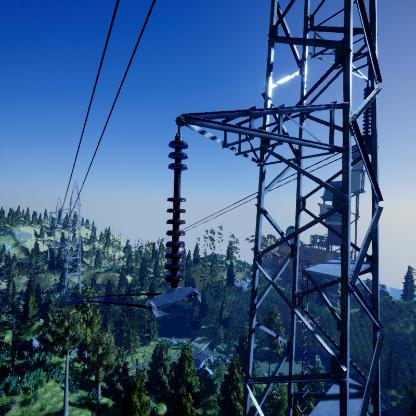insulator: (163, 138, 190, 284)
tower: (47, 179, 98, 299)
